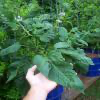Tomato leaf: (36, 54, 86, 94), (62, 49, 95, 66), (1, 44, 20, 55), (57, 27, 68, 43), (38, 32, 54, 41), (3, 20, 19, 29), (52, 43, 71, 49), (69, 27, 79, 32)
